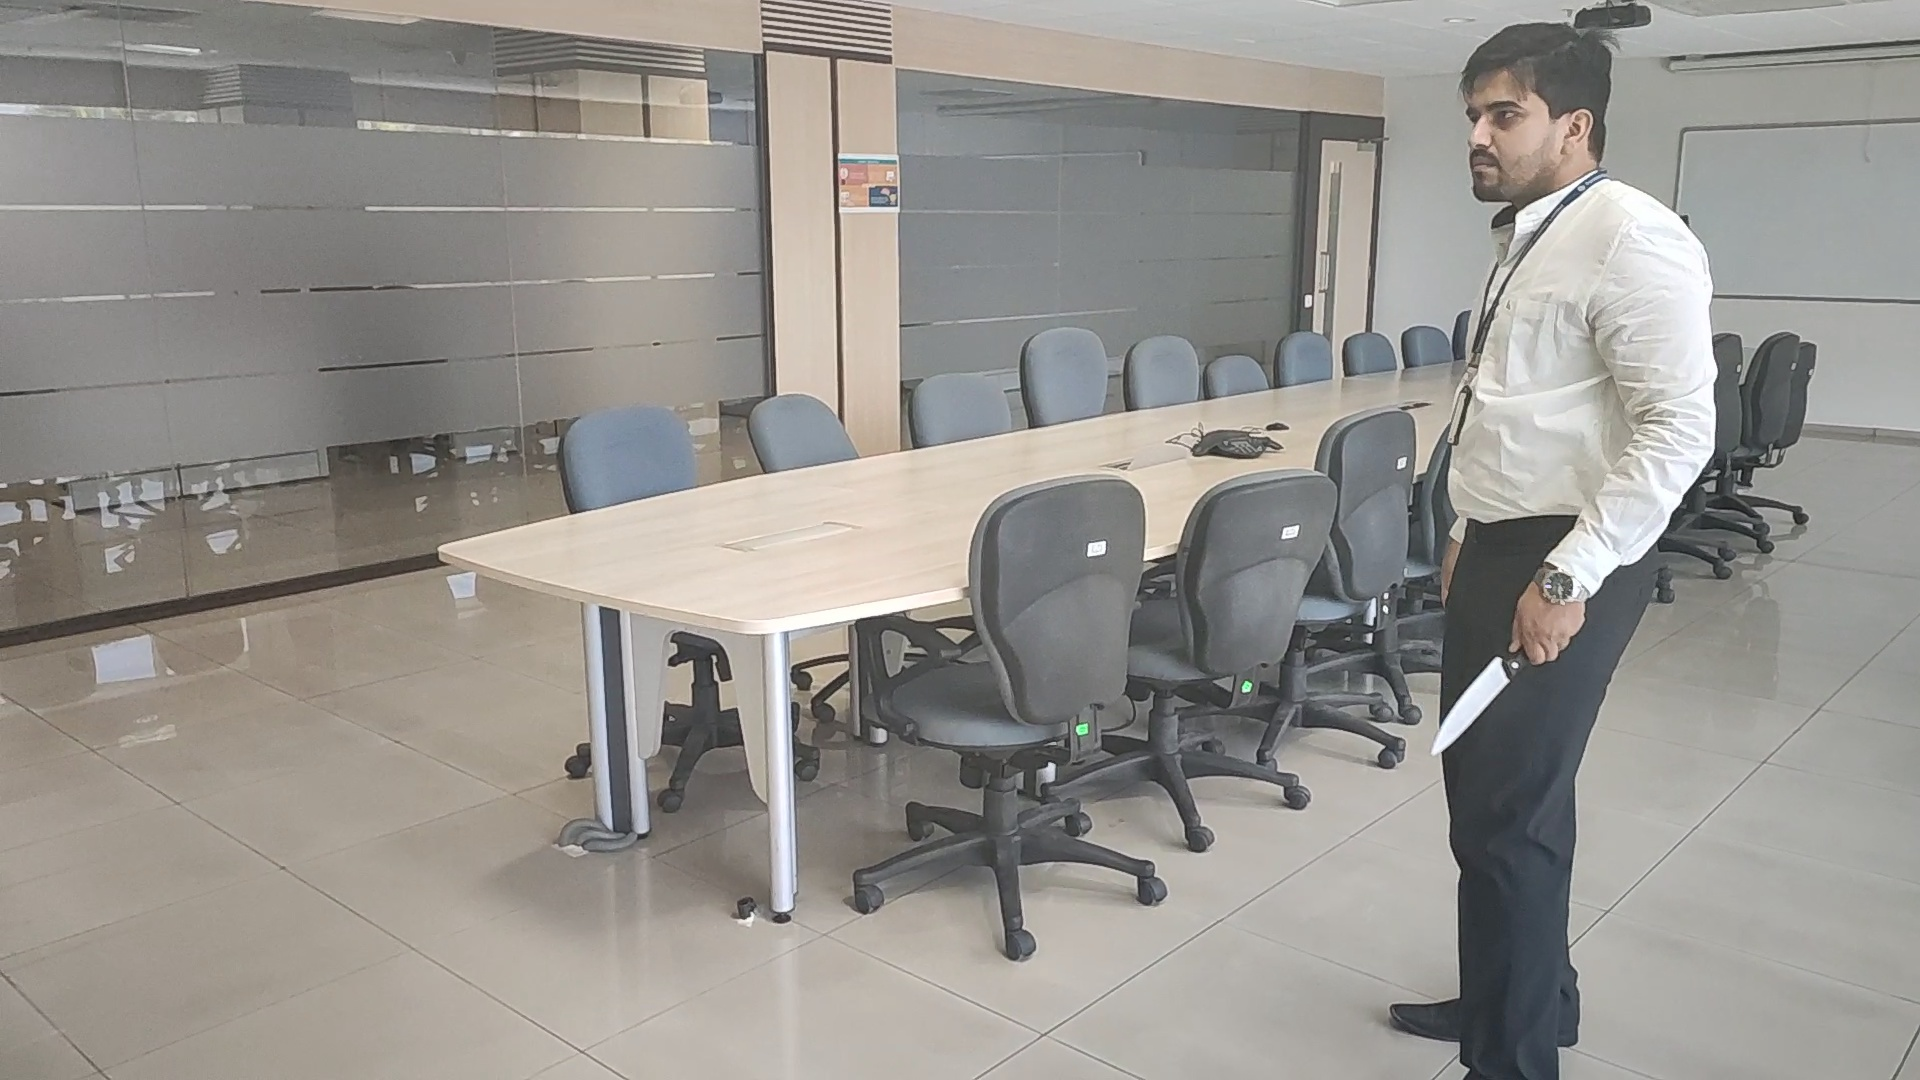knife: (1429, 651, 1528, 756)
